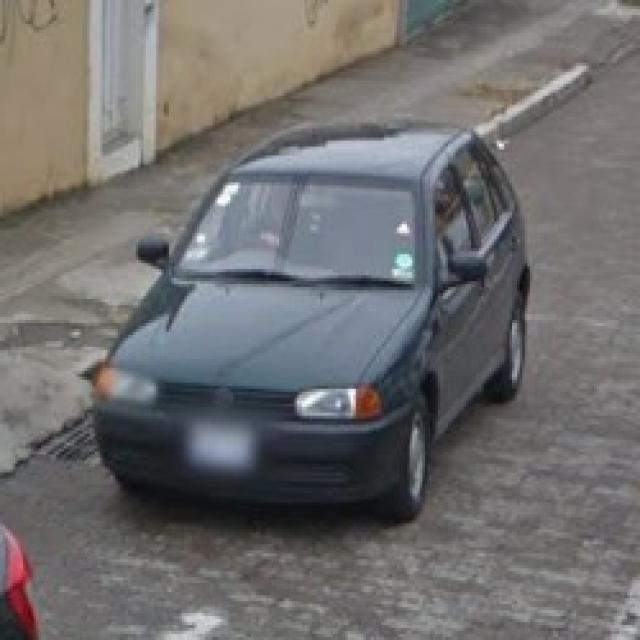car: (82, 118, 533, 523)
